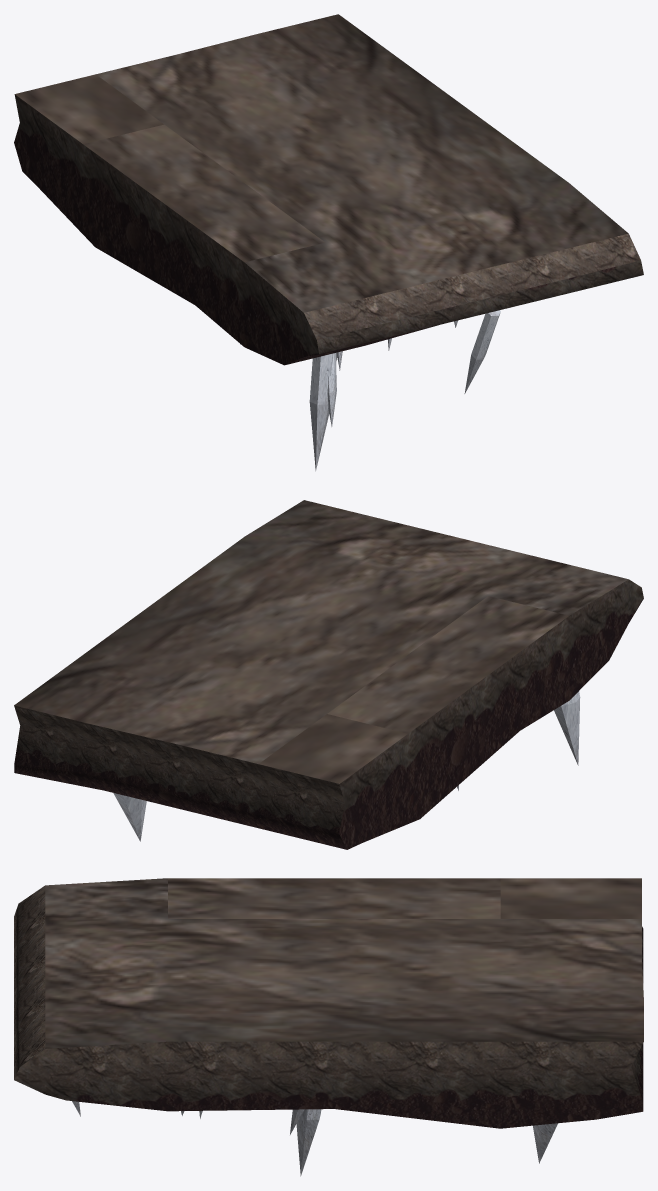
The model's file is LampLight_3DAsset_Platform3.FBX.
3 views of the same model, one above another, from view 1: azimuth 30°, elevation 25°; view 2: azimuth 150°, elevation 25°; view 3: azimuth 270°, elevation 25° (orthographic). The views are drawn at different scales.
Parts seen in each view (by area): view 1: platform002, Crystal021, Crystal4; view 2: platform002, Crystal021, Crystal; view 3: platform002, Crystal2, Crystal.
Boxes of the visible parts, x1,y1,x2,y2 form: platform002: (14, 14, 643, 365); Crystal021: (309, 353, 333, 471); Crystal4: (464, 310, 500, 393); platform002: (14, 500, 643, 849); Crystal021: (554, 691, 580, 765); Crystal: (113, 793, 146, 841); platform002: (14, 878, 643, 1128); Crystal2: (296, 1109, 321, 1176); Crystal: (533, 1123, 557, 1163).
Size of the model in its own units: 14.24 by 7.86 by 23.19.
